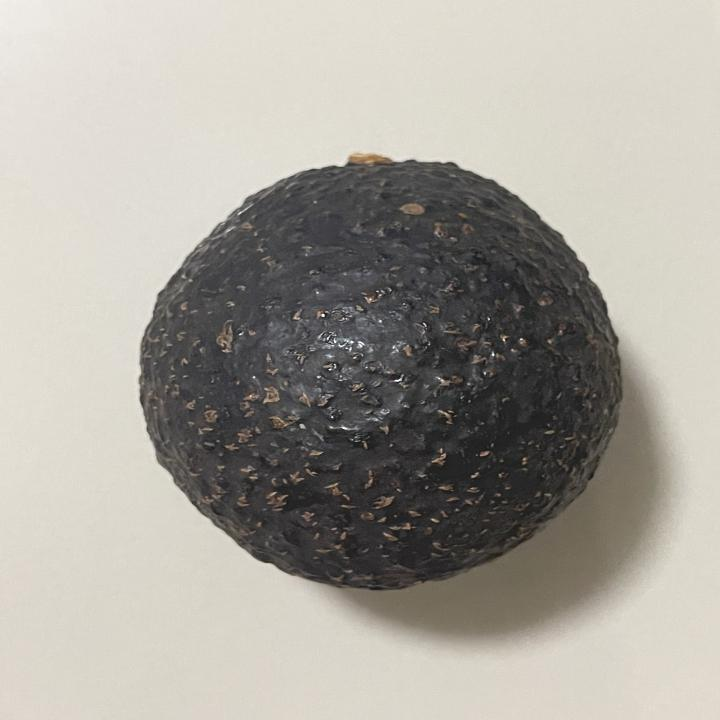Level3: (126, 136, 635, 598)
